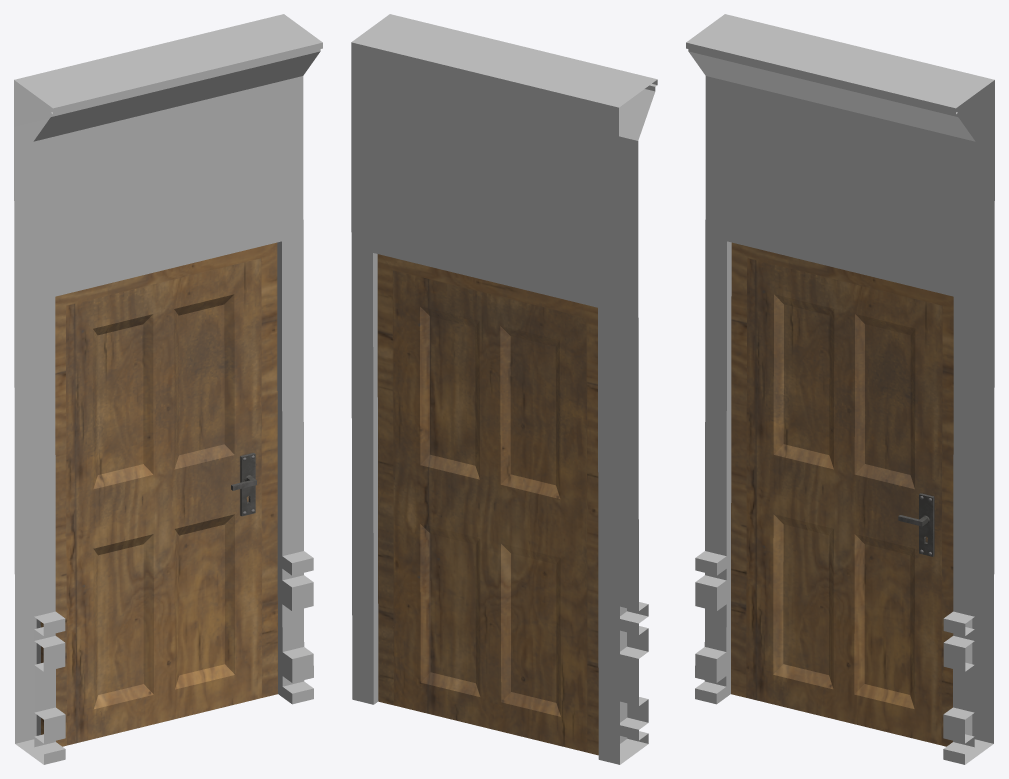
The model's file is wall_with_small_door.fbx.
3 renders of one model, left to right at view 1: azimuth 30°, elevation 25°; view 2: azimuth 150°, elevation 25°; view 3: azimuth 330°, elevation 25°, orthographic.
Visible parts, largest first — view 1: wall, small_door, small_door_frame; view 2: wall, small_door, small_door_frame; view 3: wall, small_door, small_door_frame.
Part boxes in pixels (bbox=[...]): wall: bbox=[14, 14, 322, 764]; small_door: bbox=[66, 258, 262, 745]; small_door_frame: bbox=[40, 242, 277, 746]; wall: bbox=[351, 14, 657, 764]; small_door: bbox=[393, 270, 587, 752]; small_door_frame: bbox=[377, 254, 598, 755]; wall: bbox=[686, 14, 994, 764]; small_door: bbox=[746, 258, 942, 745]; small_door_frame: bbox=[731, 242, 953, 746].
Bounding box in the file's own units: 120 × 282 × 30.07.
